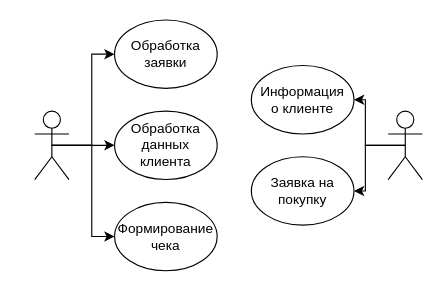
Image size: 447x291. Some labels were removed from this diagram. The shapes that lost their labels are listed below. From the top down, each one's centre as x and y in pixels, then its label:
pixel 51 145: Бухгалтер
pixel 404 145: Клиент
